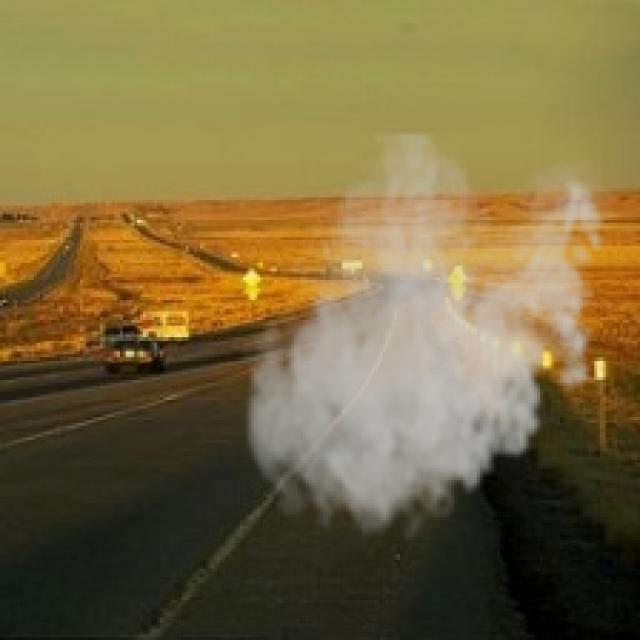Smoke: (237, 128, 617, 548)
